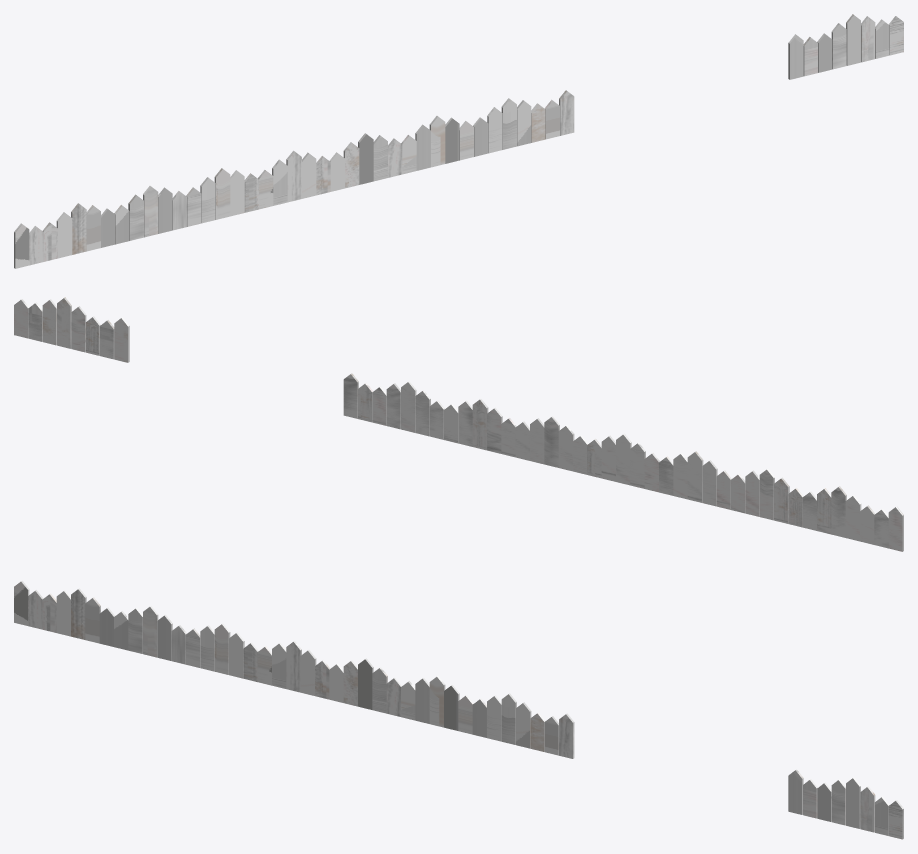
The model's file is newWall.fbx.
3 renders of one model, top to bottom at view 1: azimuth 30°, elevation 25°; view 2: azimuth 150°, elevation 25°; view 3: azimuth 330°, elevation 25°, orthographic.
Visible parts, largest first — view 1: pCube6; view 2: pCube6; view 3: pCube6.
Part boxes in pixels (left/top/right/bottom): pCube6: left=14, top=14, right=903, bottom=268; pCube6: left=14, top=297, right=903, bottom=551; pCube6: left=14, top=580, right=903, bottom=839.
Size of the model in its own units: 6196 by 328 by 16.3.
